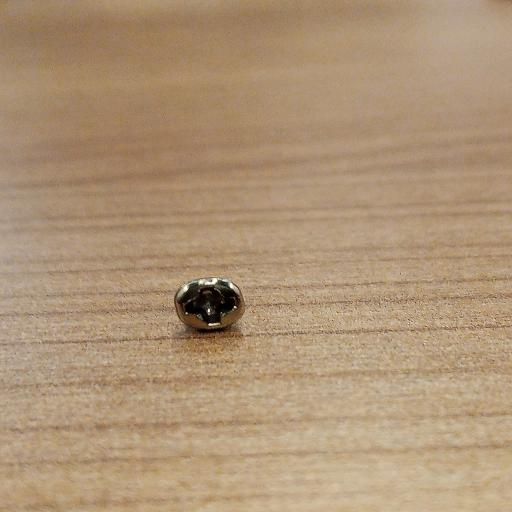Phillips: (168, 273, 252, 334)
